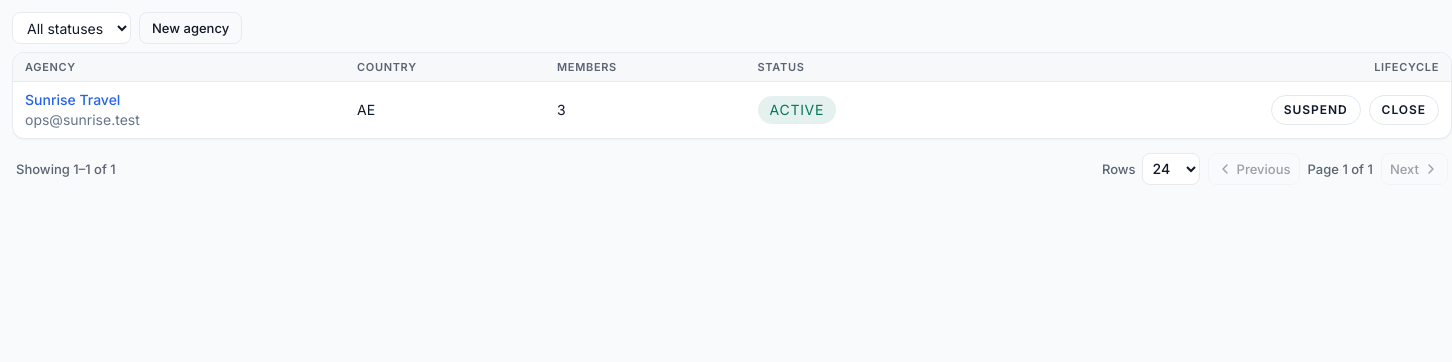
Scenario: suspension requires a reason › asks for one instead of firing the request
The image size is (1452, 362).
expect the link "Sunrise Travel" is shown: met, box [25, 90, 120, 110]
Click the 2nd button named "suspend" at {"x": 1316, "y": 110}, box [1271, 94, 1361, 124]
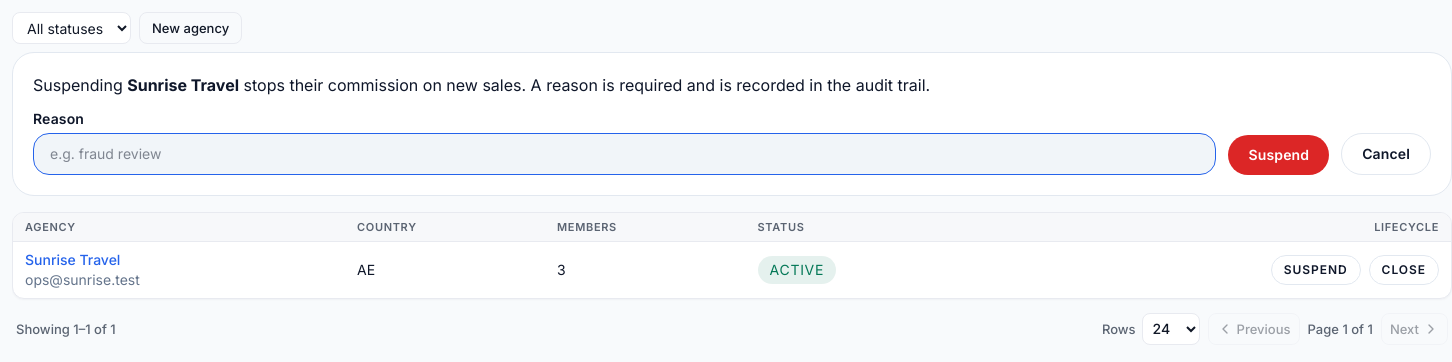
expect the field named "reason" is shown: met, box [33, 133, 1216, 175]
